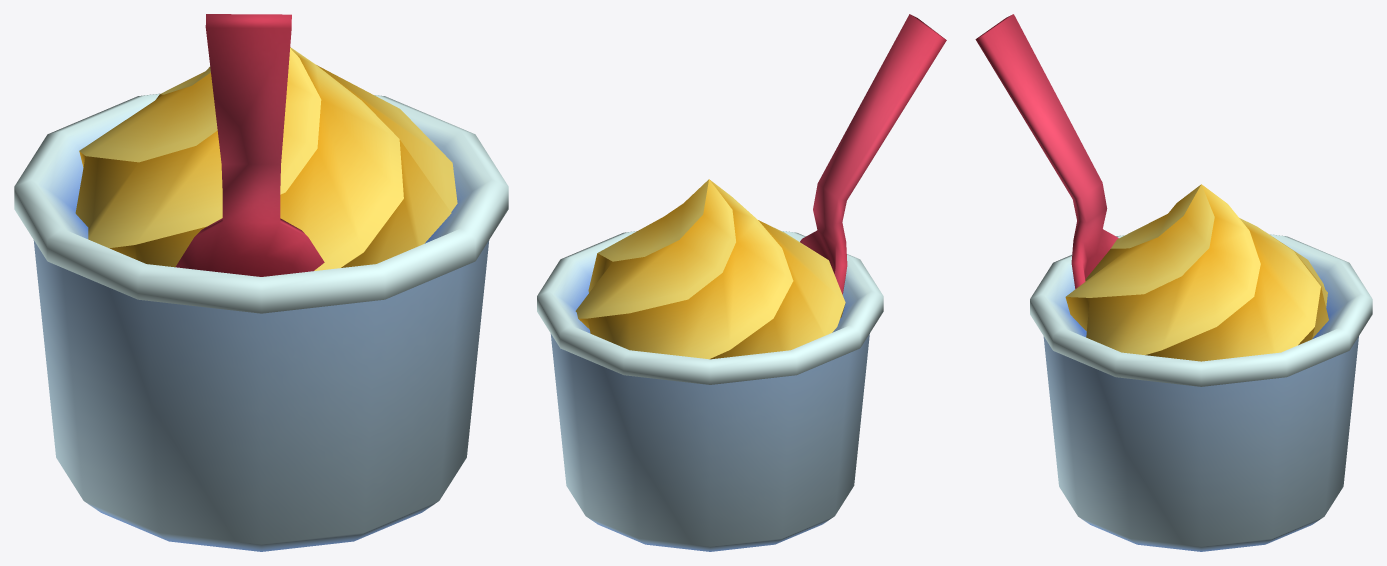
File: m_FrozenYoghurt04.fbx
The picture shows the model from 3 angles, left to right: view 1: azimuth 30°, elevation 25°; view 2: azimuth 150°, elevation 25°; view 3: azimuth 270°, elevation 25°; orthographic projection. The views are drawn at different scales.
Parts seen in each view (by area): view 1: m_FrozenYoghurt04; view 2: m_FrozenYoghurt04; view 3: m_FrozenYoghurt04.
Part boxes in pixels (x1,y1,x2,y2): m_FrozenYoghurt04: (14, 14, 508, 551); m_FrozenYoghurt04: (537, 14, 946, 551); m_FrozenYoghurt04: (975, 14, 1372, 551).
Size of the model in its own units: 13.65 by 18.45 by 15.83.
